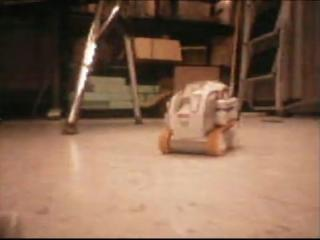cozmo: (157, 79, 241, 156)
